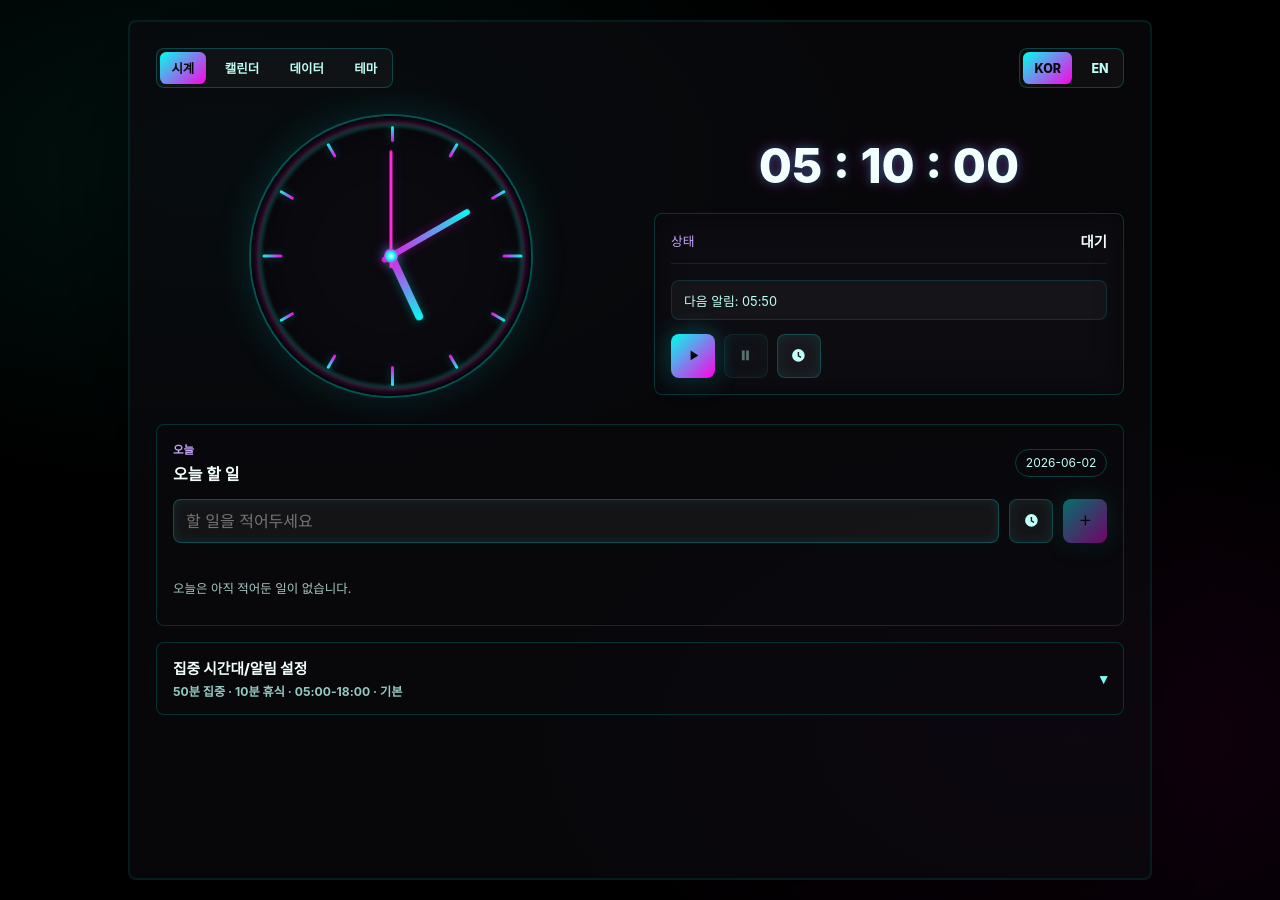
Test: RhythmApp › shows rhythm command failures near the clock controls
The width and height of the screenshot is (1280, 900).
Click the button named "시작" at (693, 356), box [671, 334, 715, 378]
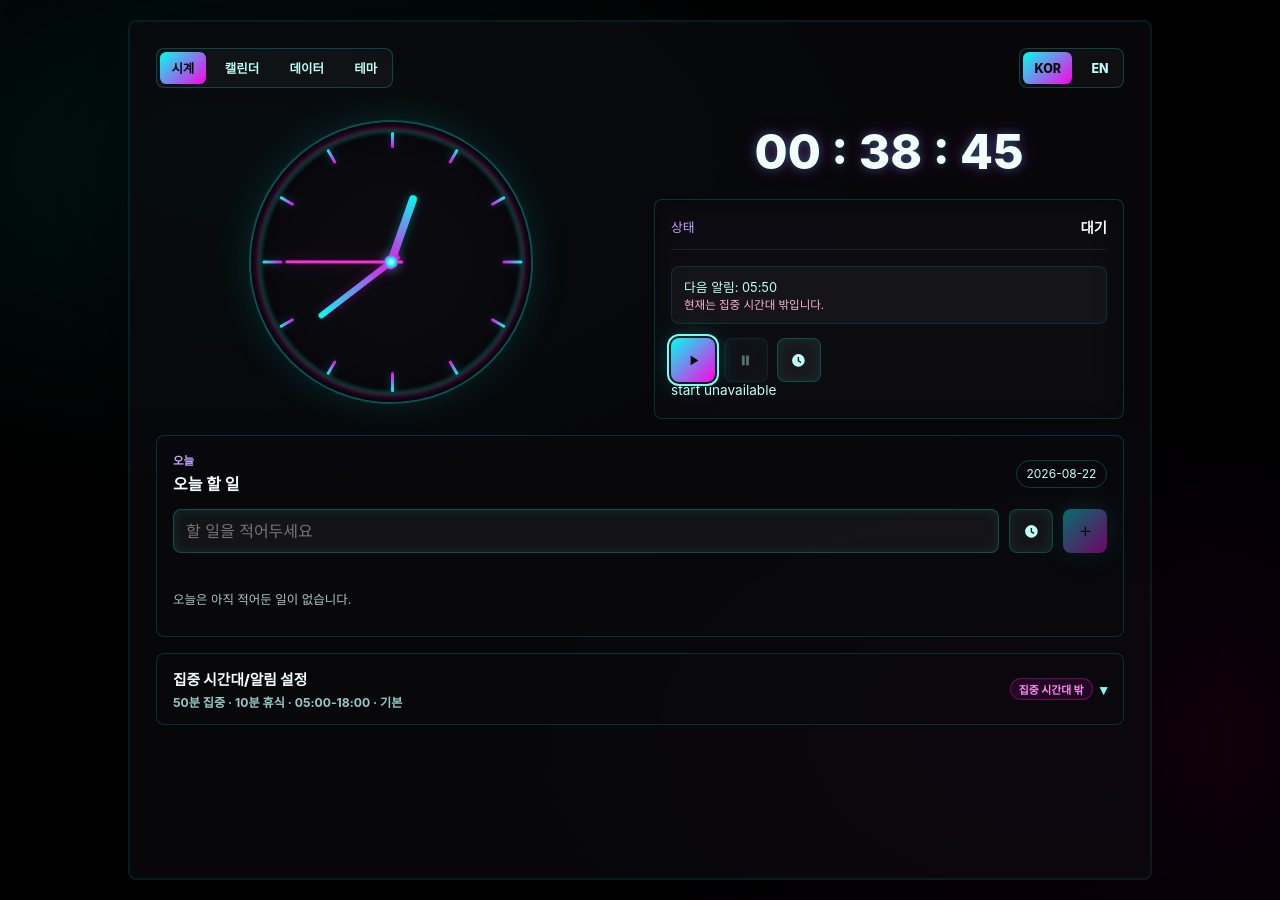
Expected: the message reads "start unavailable", [671, 382, 776, 398]
